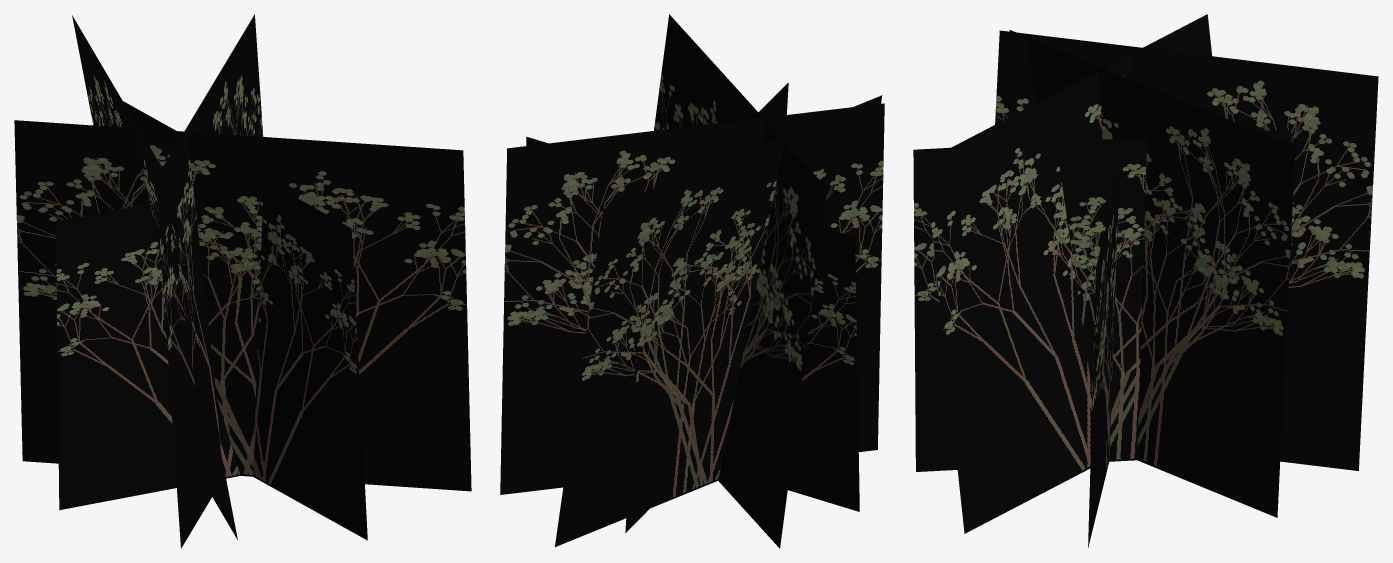
File: desert_shrub.glb
3 renders of one model, left to right at view 1: azimuth 30°, elevation 25°; view 2: azimuth 150°, elevation 25°; view 3: azimuth 270°, elevation 25°, orthographic. The views are drawn at different scales.
Visible parts, largest first — view 1: desert_shrub; view 2: desert_shrub; view 3: desert_shrub.
Part boxes in pixels (bbox=[...]): desert_shrub: bbox=[14, 14, 471, 548]; desert_shrub: bbox=[500, 14, 884, 548]; desert_shrub: bbox=[913, 14, 1378, 547].
Bounding box in the file's own units: 1.25 × 1.21 × 1.39.
1 material, 1 textured.
